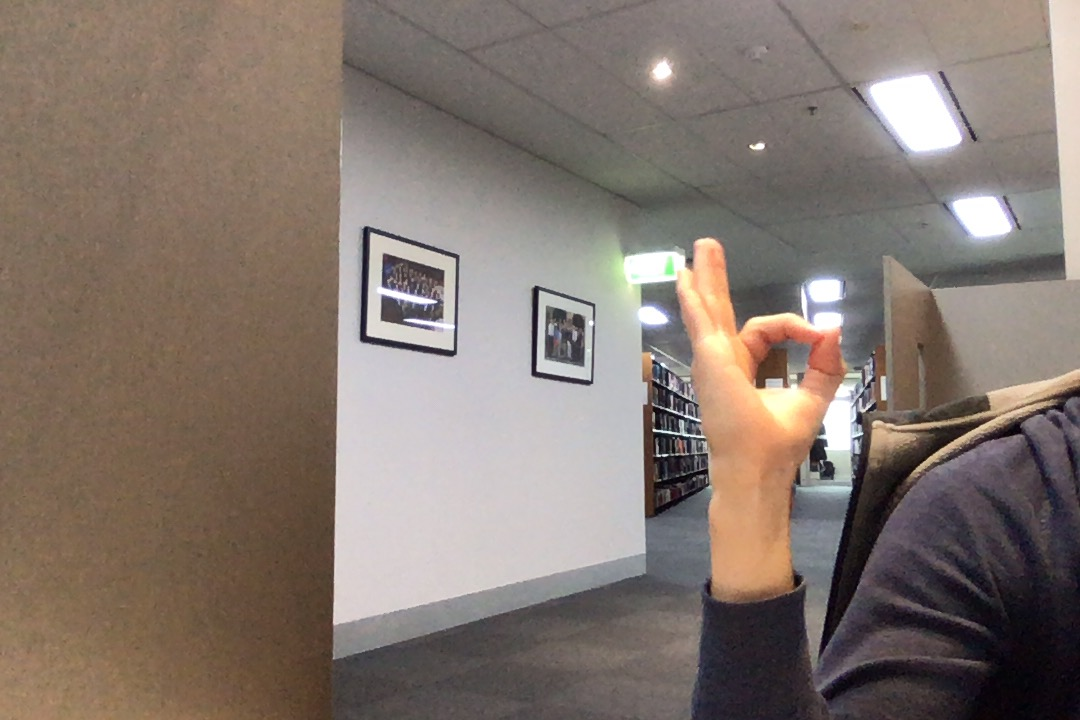oksign: (665, 231, 857, 483)
